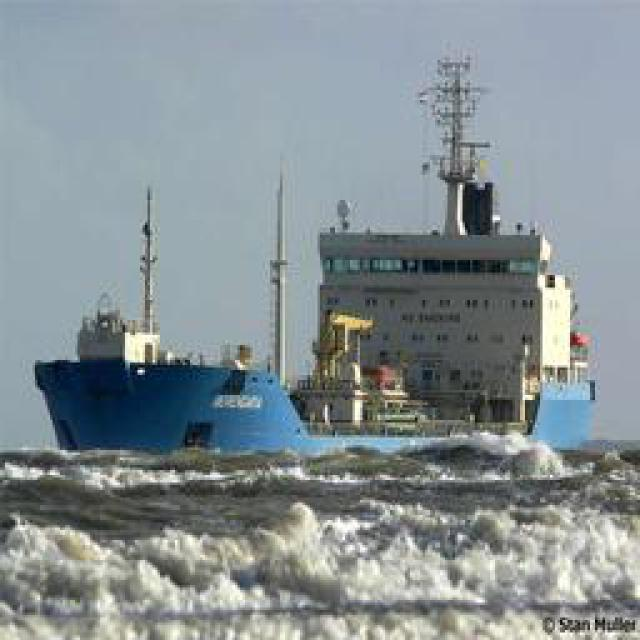Ship: (35, 167, 604, 455)
